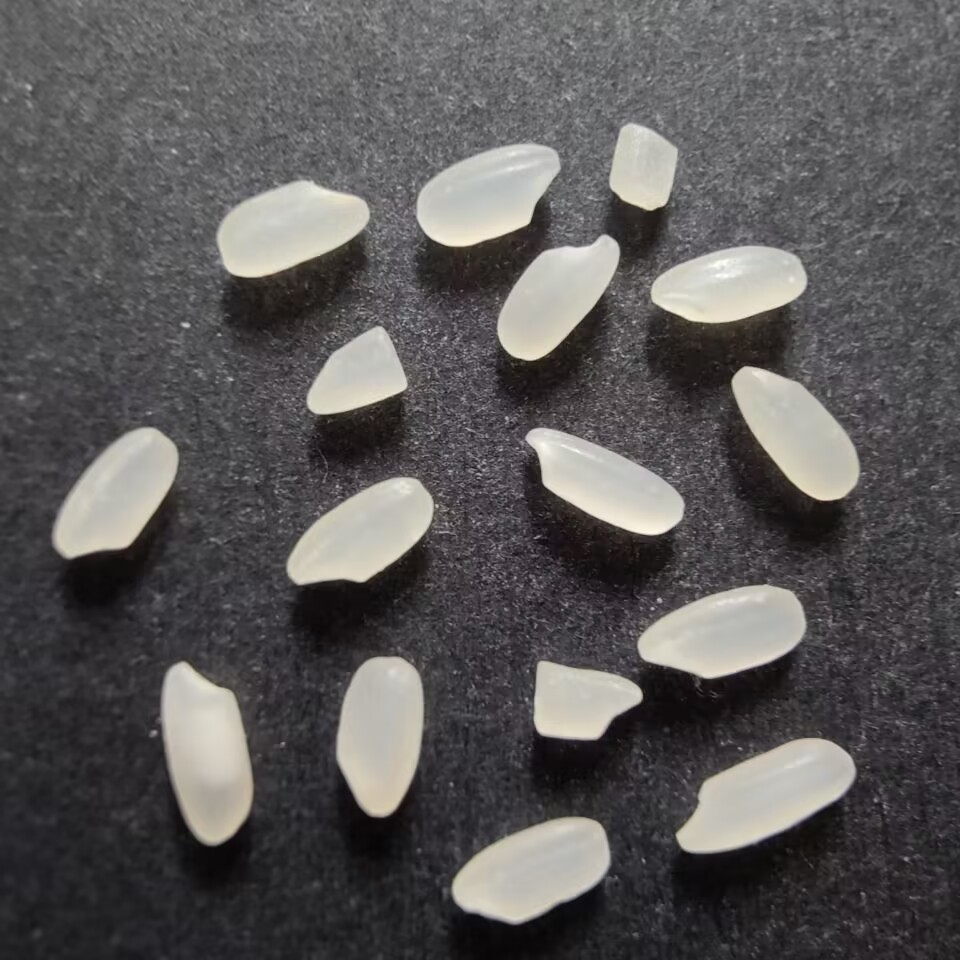broken: (301, 319, 412, 422), (525, 657, 647, 747), (600, 120, 685, 216)
rice: (672, 733, 860, 859), (446, 812, 615, 930), (158, 657, 261, 849), (46, 423, 183, 565), (519, 423, 689, 537), (728, 359, 862, 503), (279, 474, 438, 593), (631, 582, 808, 679), (212, 176, 373, 282), (411, 142, 565, 250), (495, 232, 620, 364), (330, 653, 428, 821), (645, 244, 810, 327)
